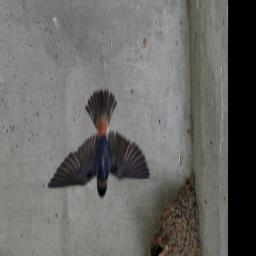Swallow: (44, 88, 151, 202)
